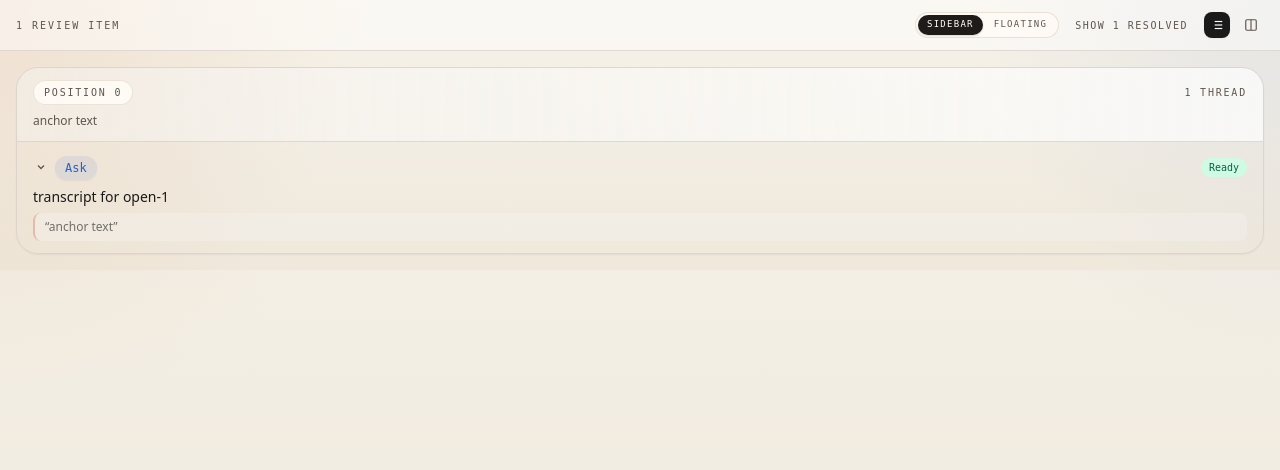
Test case: AnnotationPanel — hidden-annotation filtering › the "Show N resolved" toggle restores hidden cards, and toggling again hides them
This screenshot has width=1280, height=470.
Expected: the text "transcript for done-1" is not shown
Click the button "Show 1 resolved".
click(1132, 25)  # box [1067,14,1196,36]
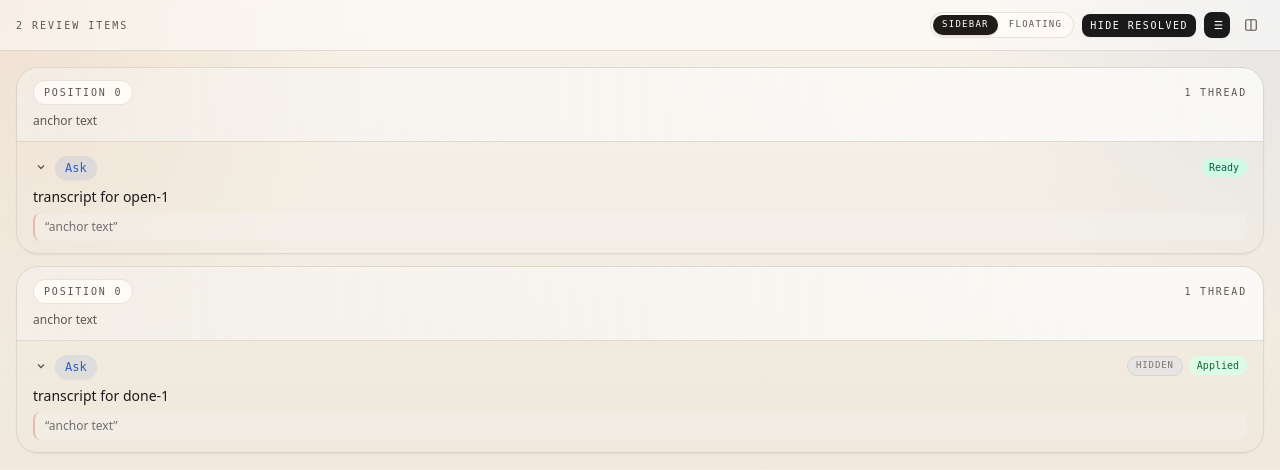
Expected: the text "transcript for done-1" is shown, [33,386,169,405]
Expected: the text "2 review items" is shown, [16,18,128,32]
Click the button "Hide resolved".
click(1139, 25)  # box [1082,14,1196,36]
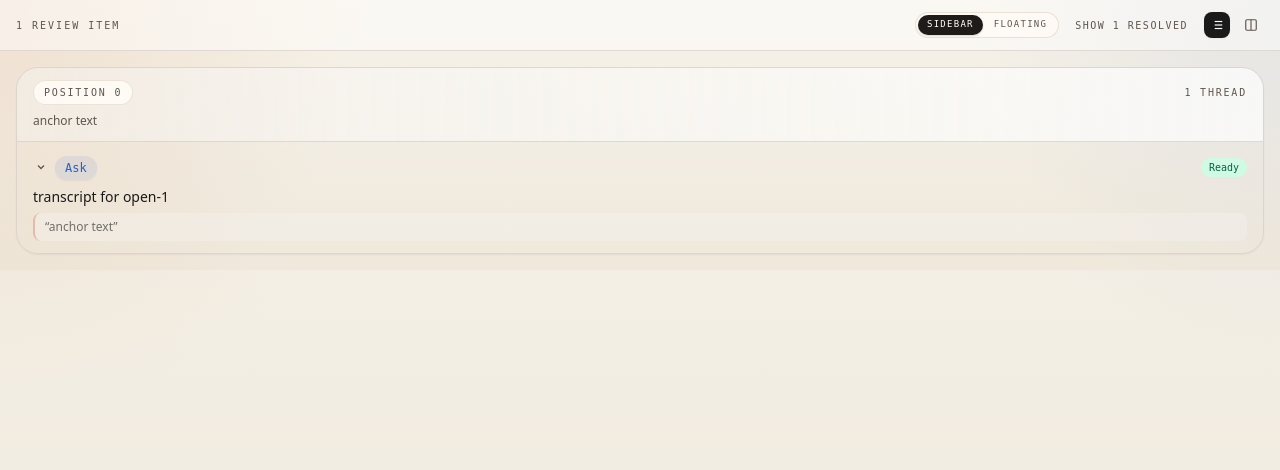
Expected: the text "transcript for done-1" is gone
Expected: the text "1 review item" is shown, [16,18,120,32]
